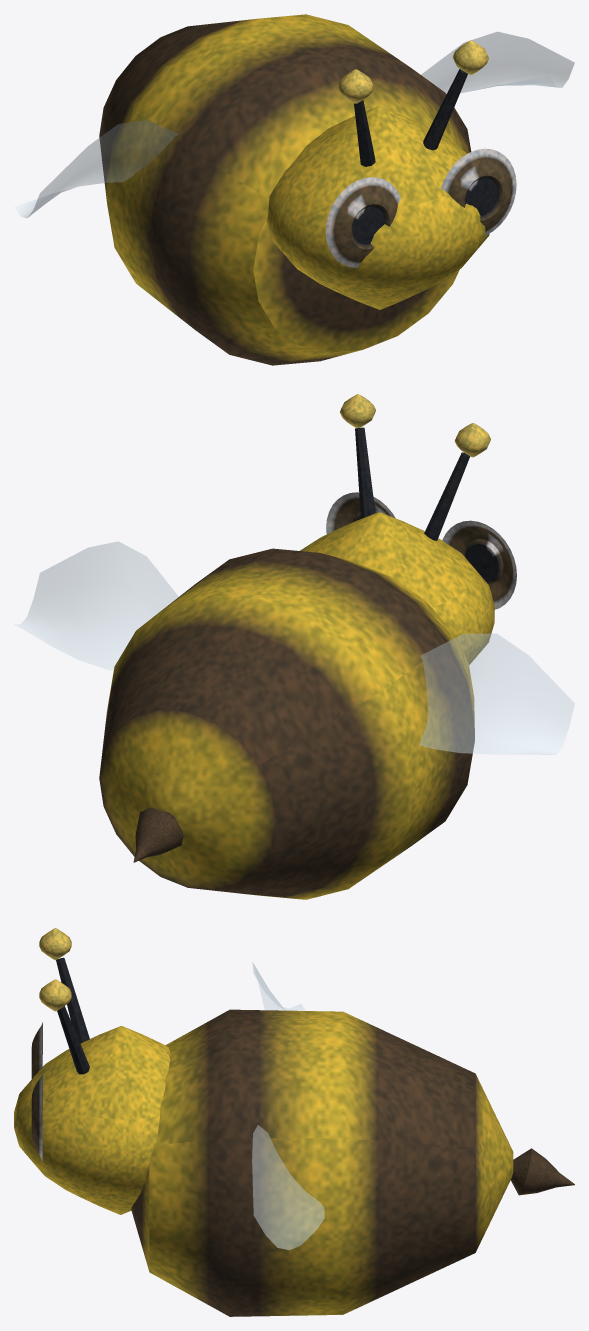
The model's file is sp_biribee-c3vrm9xn.glb.
The picture shows the model from 3 angles, top to bottom: view 1: azimuth 30°, elevation 25°; view 2: azimuth 150°, elevation 25°; view 3: azimuth 270°, elevation 25°; orthographic projection. The views are drawn at different scales.
Parts seen in each view (by area): view 1: Abdomen, HeadMesh, WingRMesh, WingLMesh, AntTips; view 2: Abdomen, HeadMesh, WingRMesh, WingLMesh, Stinger, AntTips; view 3: Abdomen, HeadMesh, WingLMesh, Stinger, AntTips, WingRMesh.
Part boxes in pixels (x1=…): Abdomen: x1=99, y1=14, x2=471, y2=365; HeadMesh: x1=267, y1=69, x2=516, y2=309; WingRMesh: x1=14, y1=120, x2=178, y2=218; WingLMesh: x1=421, y1=32, x2=574, y2=93; AntTips: x1=338, y1=40, x2=488, y2=103; Abdomen: x1=99, y1=548, x2=474, y2=899; HeadMesh: x1=300, y1=427, x2=516, y2=664; WingRMesh: x1=419, y1=633, x2=574, y2=754; WingLMesh: x1=14, y1=541, x2=178, y2=670; Stinger: x1=133, y1=807, x2=183, y2=862; AntTips: x1=340, y1=394, x2=490, y2=457; Abdomen: x1=131, y1=1009, x2=513, y2=1316; HeadMesh: x1=14, y1=957, x2=169, y2=1214; WingLMesh: x1=252, y1=1125, x2=324, y2=1249; Stinger: x1=511, y1=1148, x2=574, y2=1195; AntTips: x1=39, y1=928, x2=71, y2=1011; WingRMesh: x1=252, y1=962, x2=305, y2=1010.
Size of the model in its own units: 0.6059 by 0.4057 by 0.5934.
Materials: 2 (1 with a texture image).
